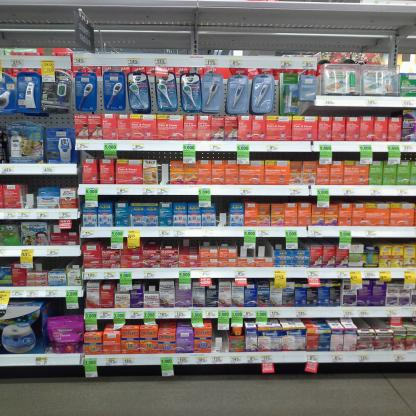Void: (310, 106, 404, 119), (50, 298, 84, 318), (29, 176, 81, 188)
